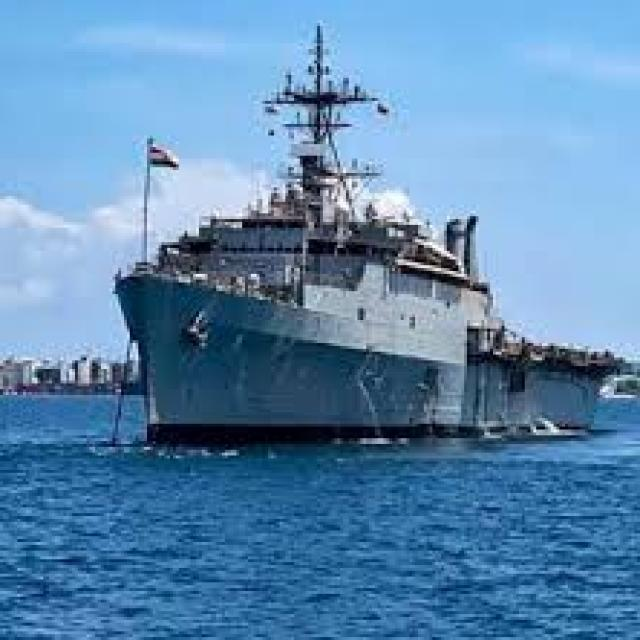navalvessels: (111, 36, 631, 450)
